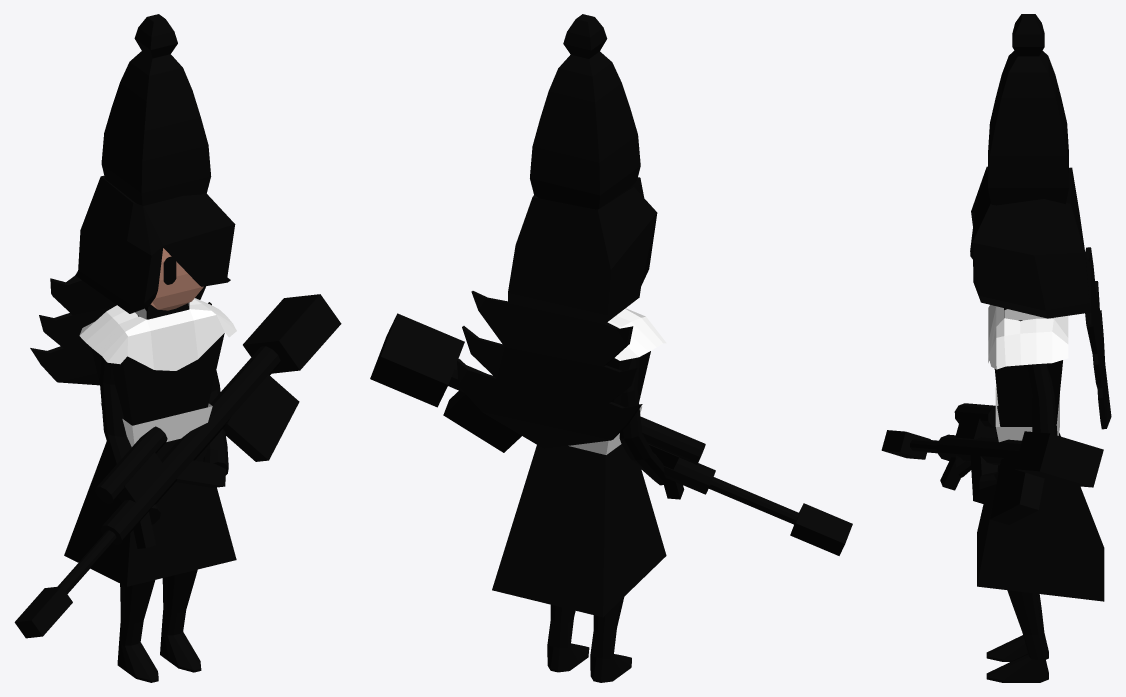
The model's file is Sniper.fbx.
3 renders of one model, left to right at view 1: azimuth 30°, elevation 25°; view 2: azimuth 150°, elevation 25°; view 3: azimuth 270°, elevation 25°, orthographic.
Parts seen in each view (by area): view 1: Cube.005, Plane.002, Cube.001, Cube.004, Plane.004, Cube.002, Cylinder.006, Plane.006, Cube.003, Cylinder.005; view 2: Plane.002, Cube.001, Cube.004, Cube.005, Cube.002, Cylinder.006, Plane.004; view 3: Plane.002, Cube.001, Cube.004, Cube.005, Plane.004, Cube.002, Cylinder.005, Plane.006.
Part boxes in pixels (box(x1,y1,x2,y2)): Cube.005: box(14, 294, 341, 638); Plane.002: box(30, 175, 235, 385); Cube.001: box(64, 303, 236, 586); Cube.004: box(101, 14, 211, 205); Plane.004: box(79, 298, 236, 370); Cube.002: box(117, 569, 201, 682); Cylinder.006: box(99, 356, 160, 524); Plane.006: box(100, 402, 212, 446); Cube.003: box(150, 248, 203, 310); Cylinder.005: box(203, 370, 228, 474); Plane.002: box(457, 177, 657, 448); Cube.001: box(492, 351, 666, 617); Cube.004: box(530, 14, 640, 209); Cube.005: box(370, 313, 852, 555); Cube.002: box(547, 597, 631, 682); Cylinder.006: box(619, 357, 670, 485); Plane.004: box(607, 308, 666, 360); Plane.002: box(970, 166, 1111, 429); Cube.001: box(977, 308, 1104, 601); Cube.004: box(988, 14, 1068, 205); Cube.005: box(881, 403, 1103, 524); Plane.004: box(988, 305, 1068, 369); Cube.002: box(986, 590, 1048, 682); Cylinder.005: box(979, 363, 1057, 499); Plane.006: box(995, 387, 1059, 442).
Size of the model in its own units: 355 by 179 by 560.
